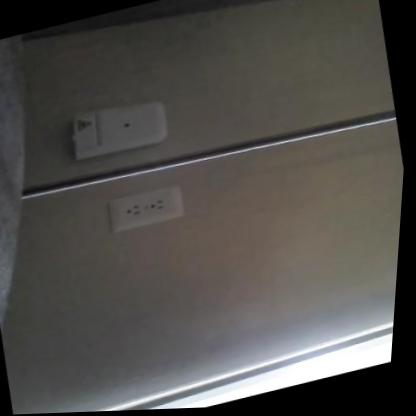OUTLET: (104, 182, 187, 233)
